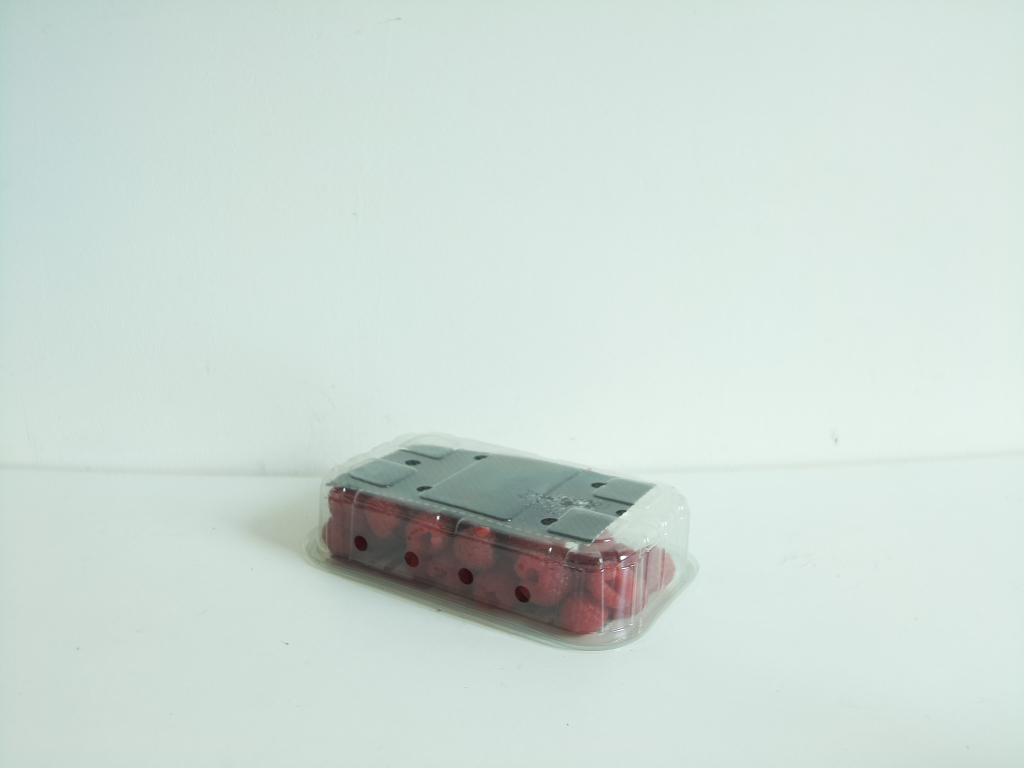soft-fruit: (308, 433, 698, 647)
